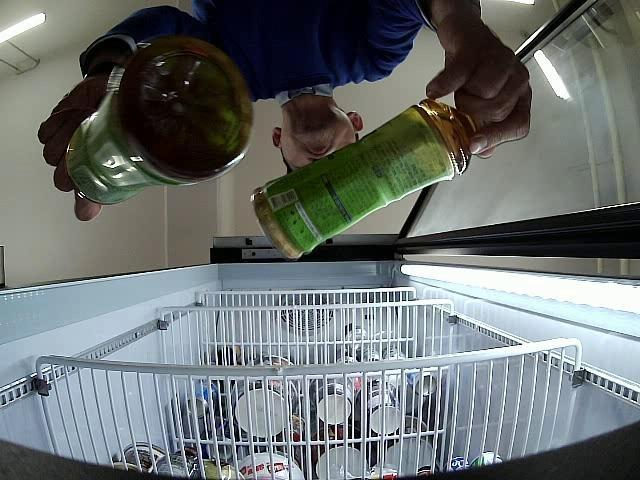19_17cha: (252, 99, 476, 260), (66, 35, 255, 204)
